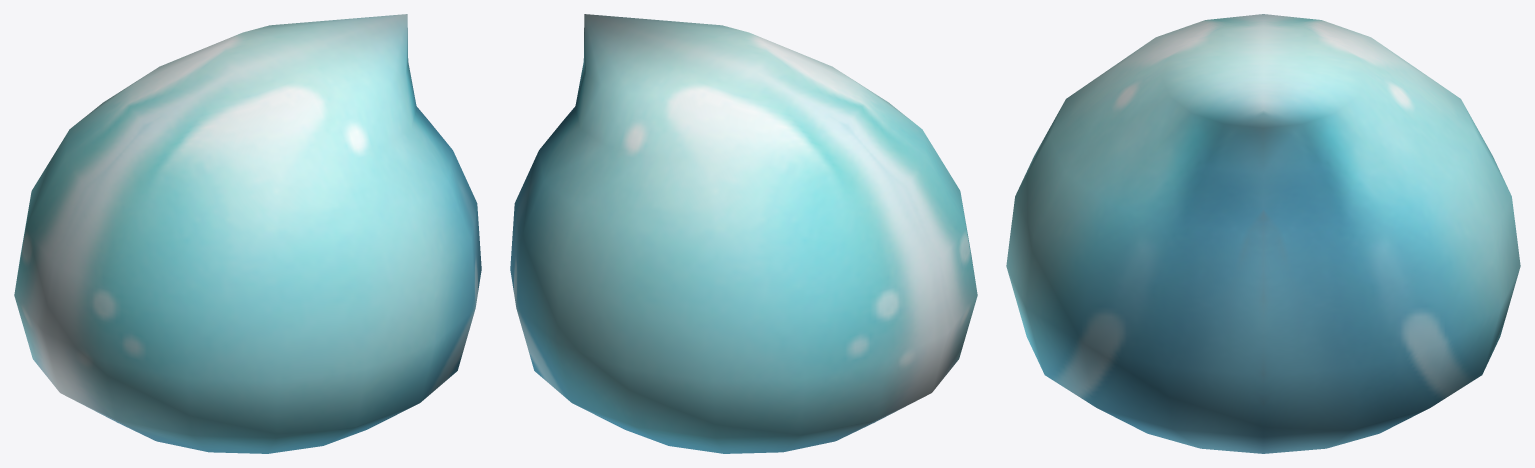
The model's file is scenes_common_jewel03a.FBX.
3 renders of one model, left to right at view 1: azimuth 30°, elevation 25°; view 2: azimuth 150°, elevation 25°; view 3: azimuth 270°, elevation 25°, orthographic. The views are drawn at different scales.
Parts seen in each view (by area): view 1: scenes_common_tools02a; view 2: scenes_common_tools02a; view 3: scenes_common_tools02a.
Part boxes in pixels (x1,y1,x2,y2): scenes_common_tools02a: (14,14,481,453); scenes_common_tools02a: (510,14,977,453); scenes_common_tools02a: (1006,14,1520,453).
Bounding box in the file's own units: 94.89 × 79.5 × 94.89.
